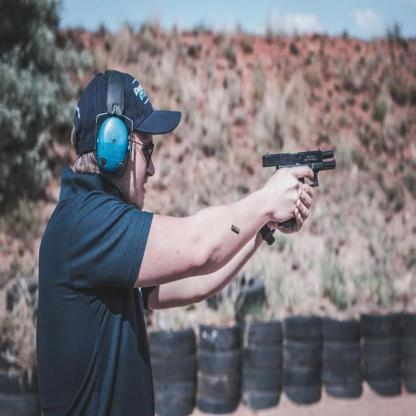handgun: (258, 142, 342, 194)
